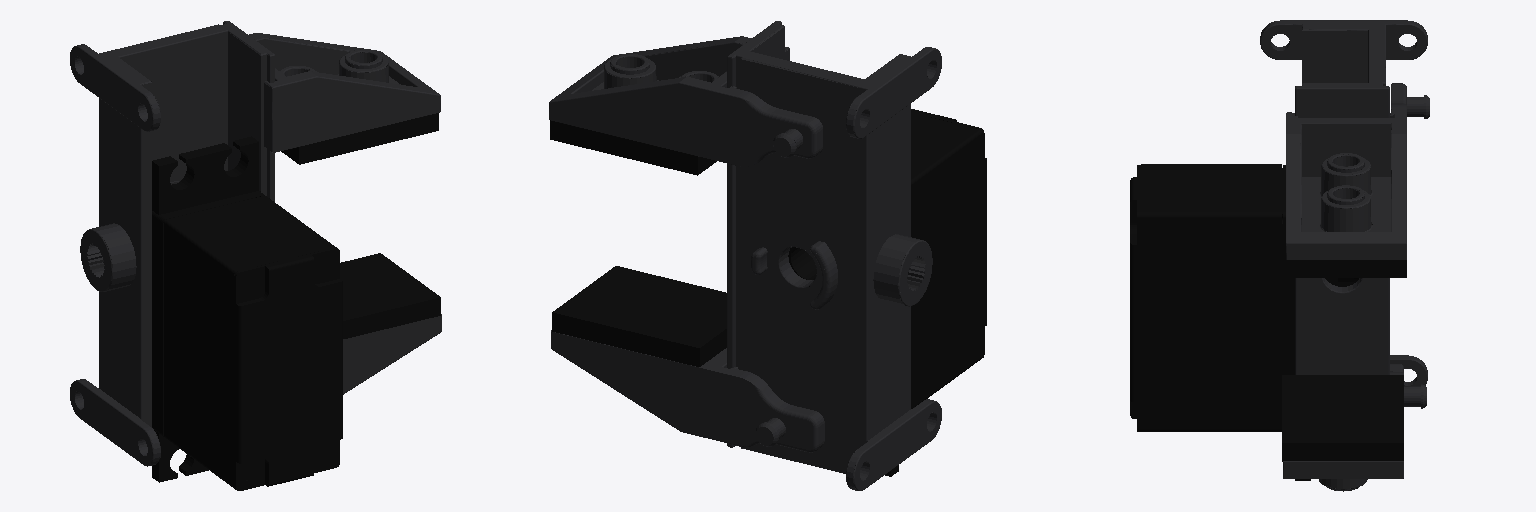
The robot description file, URDF, robot "so_arm":
<?xml version="1.0" ?>
<robot name="so_arm" xmlns:xacro="http://ros.org/wiki/xacro">
  <!-- 0 1.570795 3.14159 -->
  <material name="White">
    <color rgba="0.87 0.90 0.87 1.0"/>
  </material>
  <material name="Black">
    <color rgba="0.08 0.08 0.08 1.0"/>
  </material>
  <material name="Gray">
    <color rgba="0.2 0.2 0.21 1.0"/>
  </material>
  <material name="Green">
    <color rgba="0.22 0.32 0.14 1.0"/>
  </material>
  <link name="map"/>
  <joint name="gripper_wrist_joint" type="fixed">
    <origin xyz="0.0 0.0 0"/>
    <parent link="map"/>
    <child link="gripper_wrist_link"/>
  </joint>
  <link name="gripper_wrist_link">
    <visual>
      <origin rpy="0 0 0" xyz="0 0 0"/>
      <geometry>
        <mesh filename="package://so_arm_description/meshes/gripper_wrist.stl" scale="0.001 0.001 0.001"/>
      </geometry>
      <material name="Gray"/>
    </visual>
  </link>
  <joint name="gripper_servo_joint" type="fixed">
    <origin rpy="0 1.570795 1.570795" xyz="0.0455 -0.002 -0.069"/>
    <parent link="gripper_wrist_link"/>
    <child link="gripper_servo_link"/>
  </joint>
  <link name="gripper_servo_link">
    <!-- YYY
    <inertial>
      <mass value="0.055"/>
      <origin xyz="0 0 0"/>
      <inertia ixx="0.000017012" ixy="0.0" ixz="0.0" iyy="0.000013258" iyz="0.0" izz="0.000009483"/>
    </inertial>
    -->
    <visual>
      <origin rpy="0 0 0" xyz=" 0 0 0 "/>
      <geometry>
        <mesh filename="package://so_arm_description/meshes/servo.stl" scale="0.001 0.001 0.001"/>
      </geometry>
      <material name="Black"/>
    </visual>
    <collision>
      <origin rpy="0 0 0" xyz="0.0 0.0 -0.01241"/>
      <geometry>
        <box size="0.02 0.038 0.054"/>
      </geometry>
    </collision>
  </link>
  <gazebo reference="gripper_servo_link">
    <material>Gazebo/Black</material>
    <selfCollide>true</selfCollide>
    <gravity>true</gravity>
  </gazebo>
  <!-- Finger 1 -->
  <joint name="gripper_left_joint" type="prismatic">
    <origin rpy="3.14159 0 0" xyz="0.0265 0.0135 -0.005"/>
    <axis xyz="0 0 1"/>
    <limit effort="30" lower="0.002" upper="0.030" velocity="0.5"/>
    <parent link="gripper_wrist_link"/>
    <child link="gripper_left_finger_link"/>
  </joint>
  <link name="gripper_left_finger_link">
    <visual>
      <origin rpy="0 0 0" xyz="0 0 0"/>
      <geometry>
        <mesh filename="package://so_arm_description/meshes/gripper_finger_left.stl" scale="0.001 0.001 0.001"/>
      </geometry>
      <material name="Gray"/>
    </visual>
  </link>
  <joint name="gripper_left_pad_joint" type="fixed">
    <origin rpy="3.14159 0 1.570795" xyz="-0.002 0.052 -0.002"/>
    <parent link="gripper_left_finger_link"/>
    <child link="gripper_left_pad_link"/>
  </joint>
  <link name="gripper_left_pad_link">
    <visual>
      <origin rpy="0 0 0" xyz="0 0 0"/>
      <geometry>
        <mesh filename="package://so_arm_description/meshes/gripper_finger_pad.stl" scale="0.001 0.001 0.001"/>
      </geometry>
      <material name="Black"/>
    </visual>
  </link>
  <!-- Using Mimic -->
  <!-- gripper 2 joint -->
  <joint name="gripper_right_joint" type="prismatic">
    <origin rpy="0 0 0" xyz="0.0265 0.00 0.002"/>
    <axis xyz="0 0 1"/>
    <limit effort="30" velocity="0.5" lower="0.002" upper="0.030"/>
    <parent link="gripper_wrist_link"/>
    <child link="gripper_right_finger_link"/>
    <mimic joint="gripper_left_joint" multiplier="1"  offset = "0"/>
  </joint>
  <link name="gripper_right_finger_link">
    <visual>
      <origin rpy="0 0 0" xyz="0 0 0"/>
      <geometry>
        <mesh filename="package://so_arm_description/meshes/gripper_finger_right.stl" scale="0.001 0.001 0.001"/>
      </geometry>
      <material name="Gray"/>
    </visual>
  </link>
  <joint name="gripper_right_pad_joint" type="fixed">
    <origin rpy="3.14159 0 1.570795" xyz="-0.002 0.052 -0.002"/>
    <parent link="gripper_right_finger_link"/>
    <child link="gripper_right_pad_link"/>
  </joint>
  <link name="gripper_right_pad_link">
    <visual>
      <origin rpy="0 0 0" xyz="0 0 0"/>
      <geometry>
        <mesh filename="package://so_arm_description/meshes/gripper_finger_pad.stl" scale="0.001 0.001 0.001"/>
      </geometry>
      <material name="Black"/>
    </visual>
  </link>

</robot>

--- What the picture shows (computed from the rendered views, not written in the file) ---
3 views of the same robot in one strip: view 1: azimuth 30°, elevation 25°; view 2: azimuth 150°, elevation 25°; view 3: azimuth 270°, elevation 25° (orthographic).
Robot: so_arm — 7 links, 6 joints (2 prismatic, 4 fixed); root link map; default pose: all joints at 0 but 2 set to mid-range because 0 is outside their limits (gripper_left_joint = 0.016, gripper_right_joint = 0.016).
Links seen in each view (by area): view 1: gripper_servo_link, gripper_wrist_link, gripper_right_finger_link, gripper_left_pad_link, gripper_left_finger_link, gripper_right_pad_link; view 2: gripper_wrist_link, gripper_right_finger_link, gripper_servo_link, gripper_left_finger_link, gripper_left_pad_link, gripper_right_pad_link; view 3: gripper_servo_link, gripper_wrist_link, gripper_right_finger_link, gripper_left_pad_link, gripper_left_finger_link, gripper_right_pad_link.
Boxes of the visible links, x1,y1,x2,y2 form: gripper_servo_link: (152,136,342,490); gripper_wrist_link: (70,21,274,466); gripper_right_finger_link: (249,33,440,152); gripper_left_pad_link: (340,253,440,338); gripper_left_finger_link: (343,314,441,394); gripper_right_pad_link: (281,113,438,164); gripper_wrist_link: (727,21,941,490); gripper_right_finger_link: (549,36,822,166); gripper_servo_link: (788,109,986,476); gripper_left_finger_link: (551,330,824,452); gripper_left_pad_link: (552,266,726,366); gripper_right_pad_link: (550,120,716,175); gripper_servo_link: (1130,164,1358,480); gripper_wrist_link: (1260,20,1427,385); gripper_right_finger_link: (1286,83,1429,259); gripper_left_pad_link: (1282,375,1403,461); gripper_left_finger_link: (1283,364,1426,491); gripper_right_pad_link: (1286,224,1406,277).
Size in the robot's own frame: 0.0575 by 0.0469 by 0.0693 metres.
6 mesh visuals loaded from 5 distinct referenced files (5 binary STL).